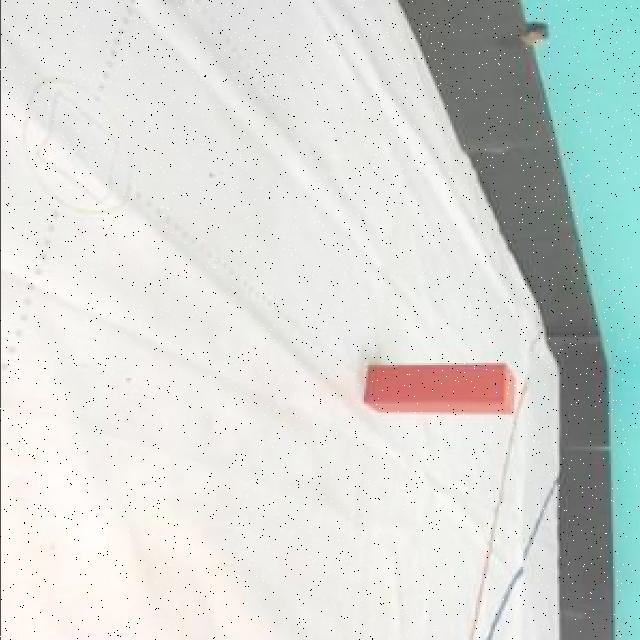redbox: (363, 364, 518, 411)
